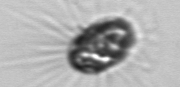plankton: (61, 11, 142, 79)
